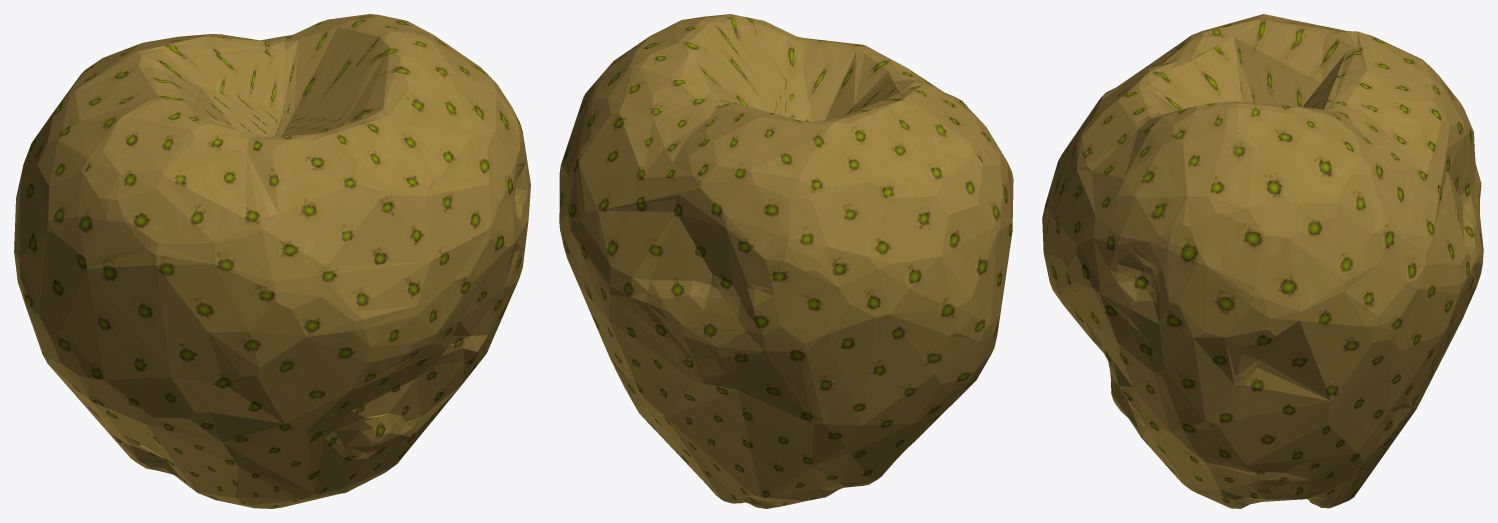
3 views of the same model, side by side, from view 1: azimuth 30°, elevation 25°; view 2: azimuth 150°, elevation 25°; view 3: azimuth 270°, elevation 25° (orthographic). The views are drawn at different scales.
Visible parts, largest first — view 1: _002_Meshed; view 2: _002_Meshed; view 3: _002_Meshed.
Boxes of the visible parts, box(x1,y1,x2,y2) form: _002_Meshed: box(14, 14, 530, 508); _002_Meshed: box(559, 14, 1013, 508); _002_Meshed: box(1042, 14, 1483, 508).
Size of the model in its own units: 0.1 by 0.0879 by 0.0956.
Materials: 1 (1 with a texture image).
